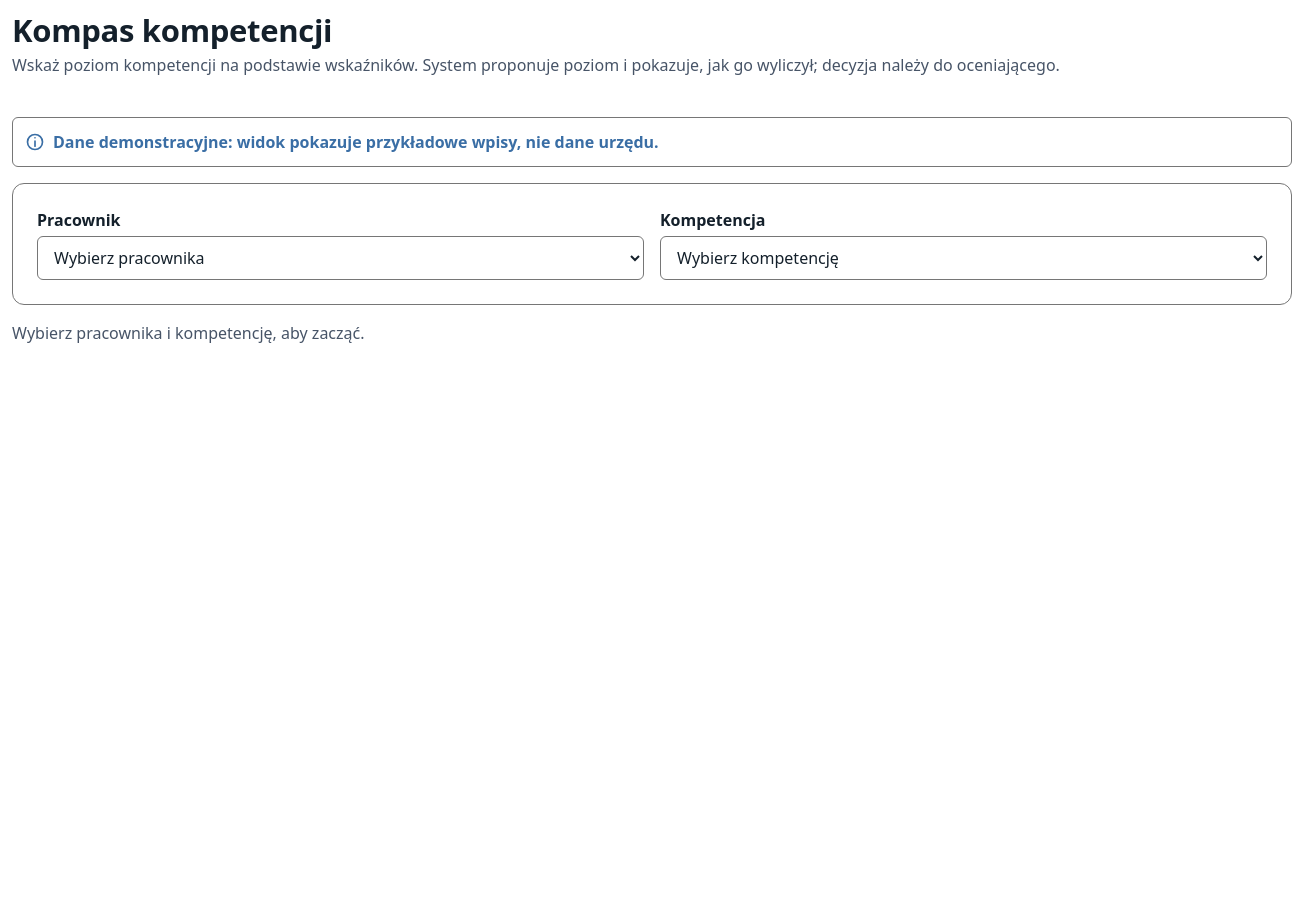
CompetenciesPage › shows the suggestion steps and sends the final level with a justification
Later steps or results of the test are not shown.
Select "Anna Nowak" in the dropdown labelled "Pracownik" at {"x": 340, "y": 258}, box [37, 236, 644, 280]
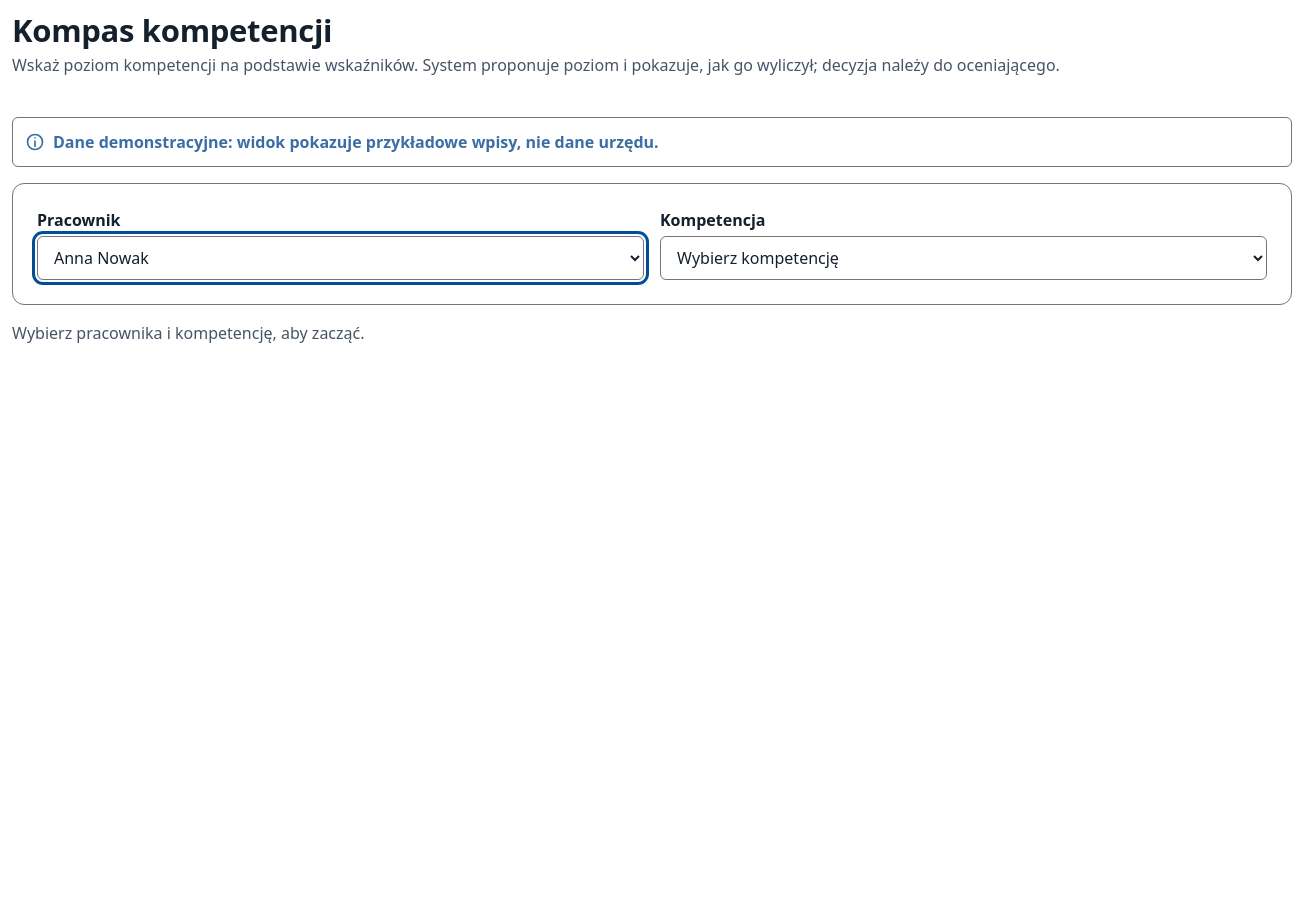
Select "Rzetelność" in the dropdown labelled "Kompetencja" at {"x": 964, "y": 258}, box [660, 236, 1267, 280]
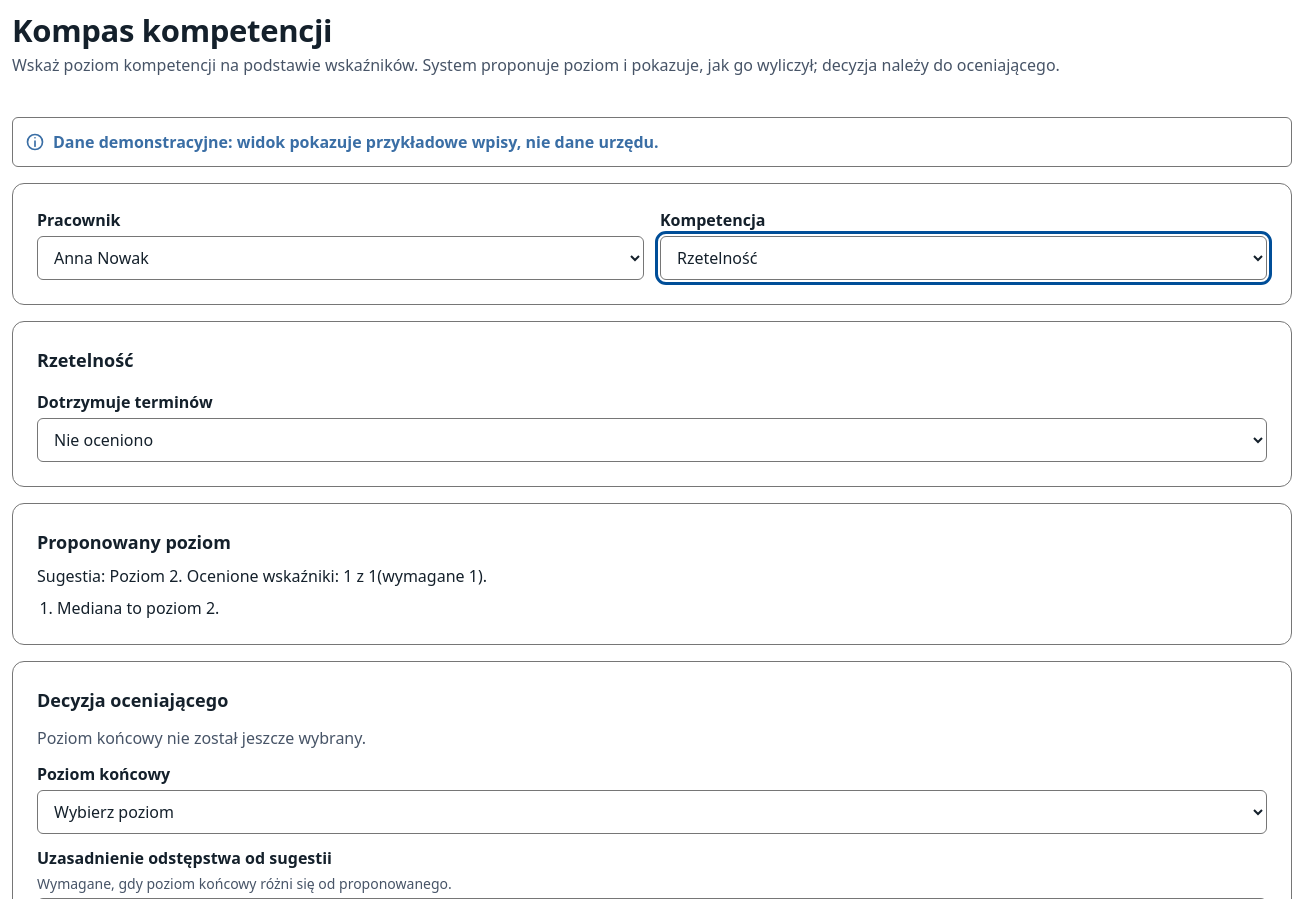
Expected: the list item "Mediana to poziom 2." is shown, [57, 597, 219, 619]
